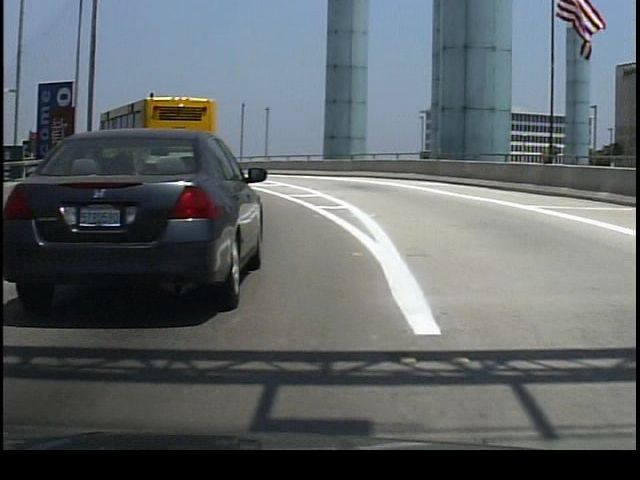car: (1, 123, 266, 329)
